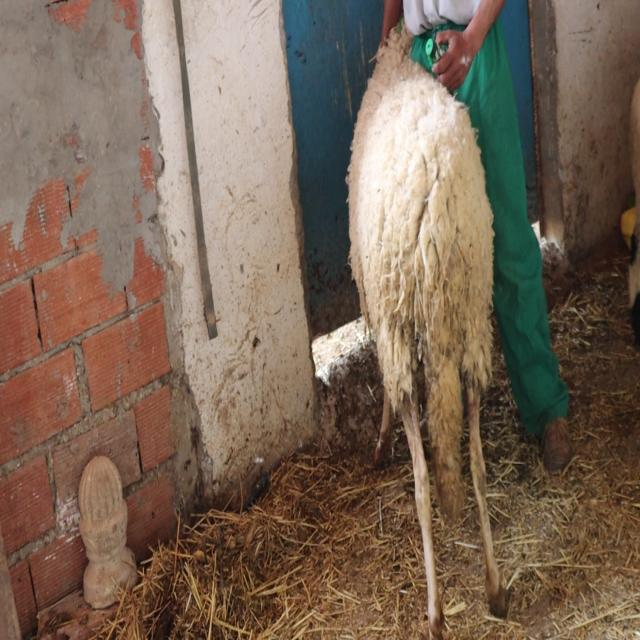Score_5: (347, 27, 506, 639)
